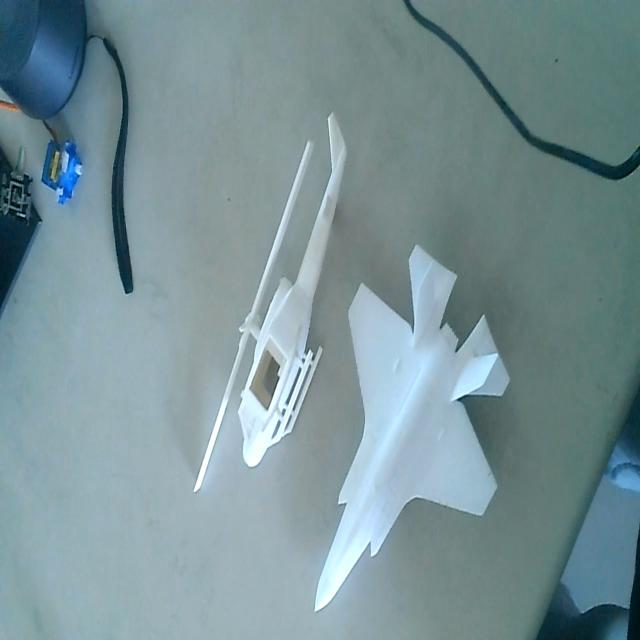Helicopter: (189, 112, 349, 486)
Jet: (310, 241, 511, 625)
